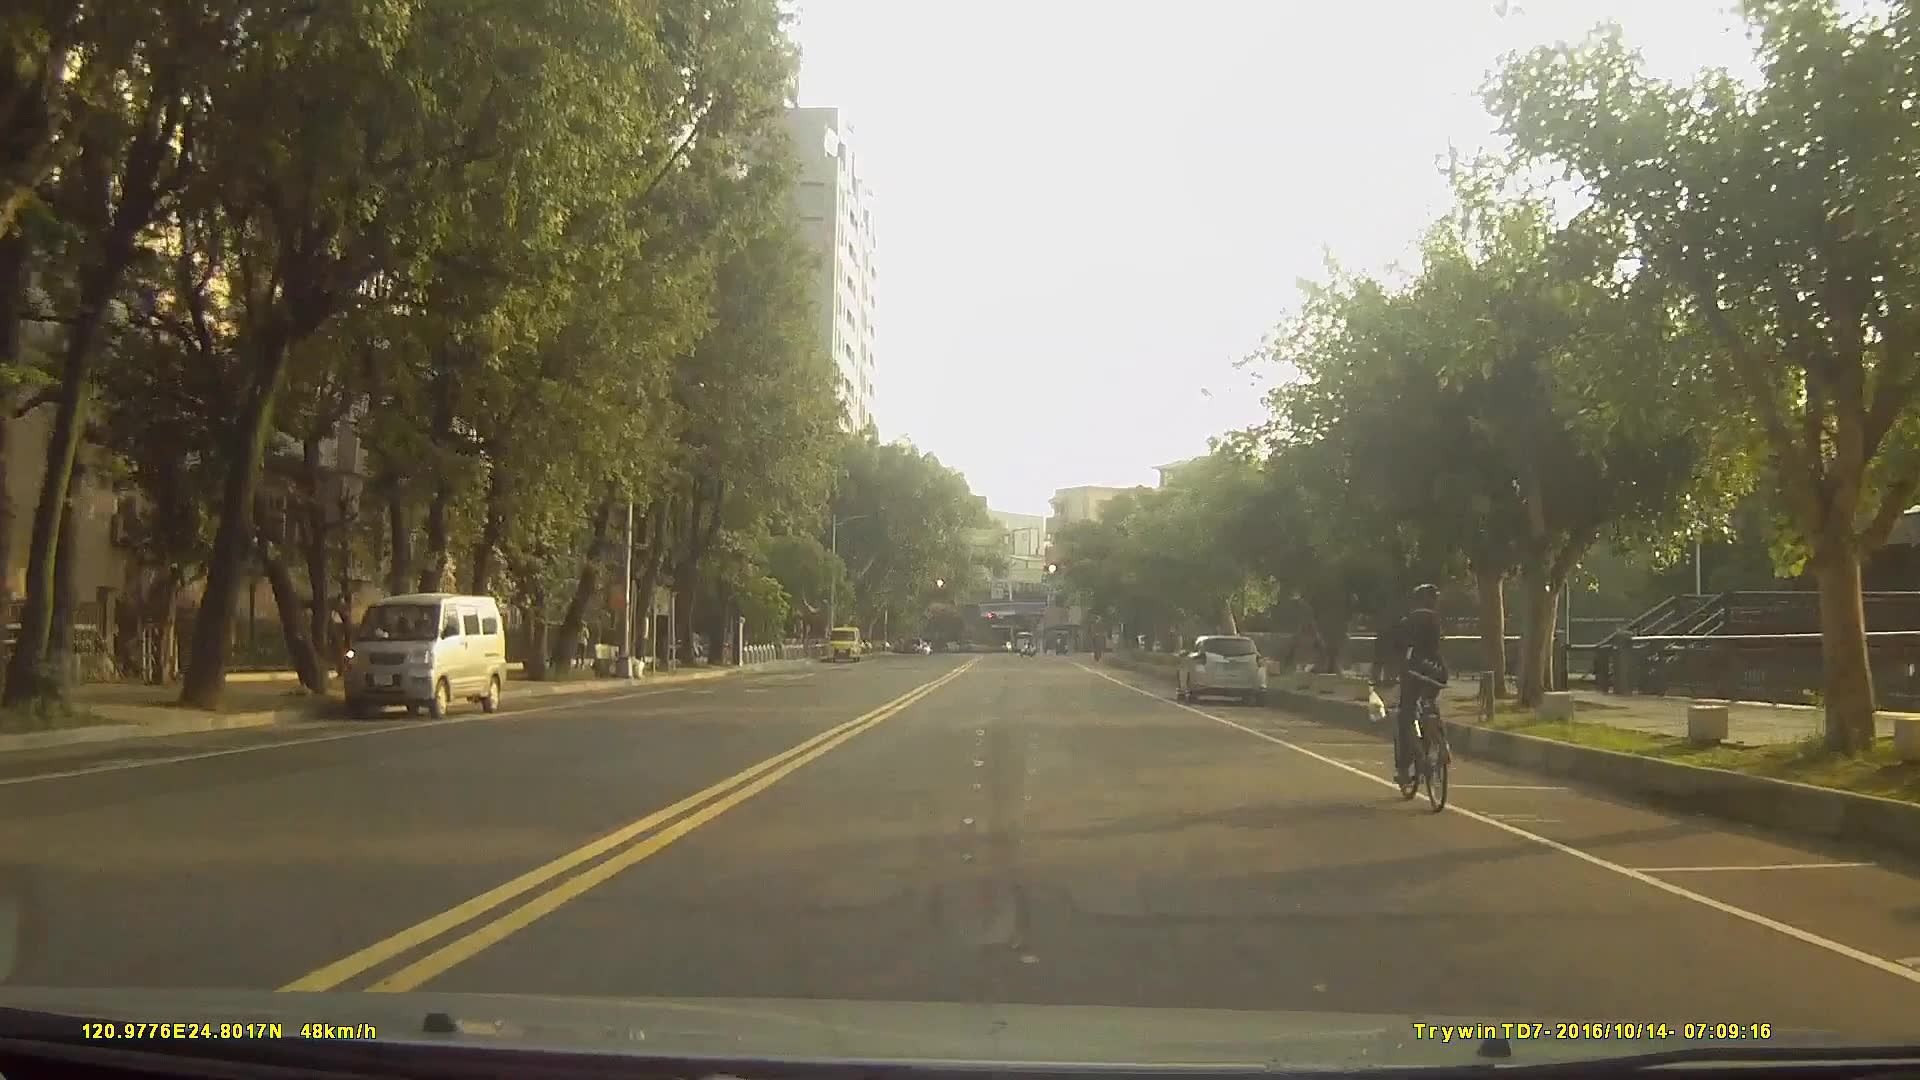rider: (1382, 582, 1456, 809)
vehicle: (343, 591, 508, 721), (1177, 631, 1268, 705), (1010, 627, 1036, 653)
